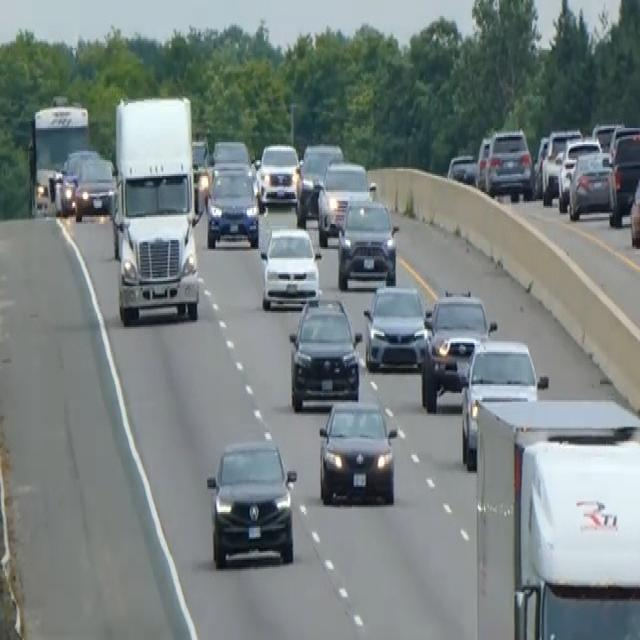car: (205, 435, 297, 569), (459, 336, 547, 469), (420, 288, 496, 412), (317, 396, 398, 506), (287, 293, 362, 411), (336, 194, 399, 290), (362, 281, 428, 371), (316, 158, 375, 247), (260, 224, 321, 309), (204, 160, 259, 249), (295, 140, 343, 226), (485, 126, 533, 201), (567, 147, 616, 220), (557, 135, 602, 212), (540, 126, 582, 204), (608, 128, 639, 224), (55, 146, 98, 215), (257, 140, 300, 208), (73, 154, 115, 220), (211, 137, 250, 167), (531, 134, 549, 196), (446, 151, 476, 185), (474, 134, 491, 188), (628, 169, 639, 247), (191, 135, 209, 176)
lorry: (109, 92, 201, 326)
